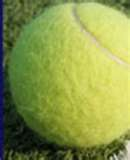tennis ball: (7, 2, 130, 150)
